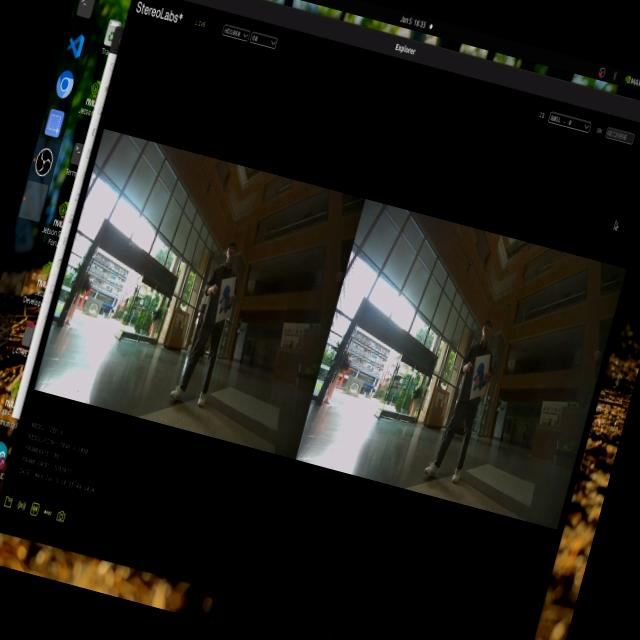blue: (466, 356, 494, 400), (217, 278, 240, 316)
